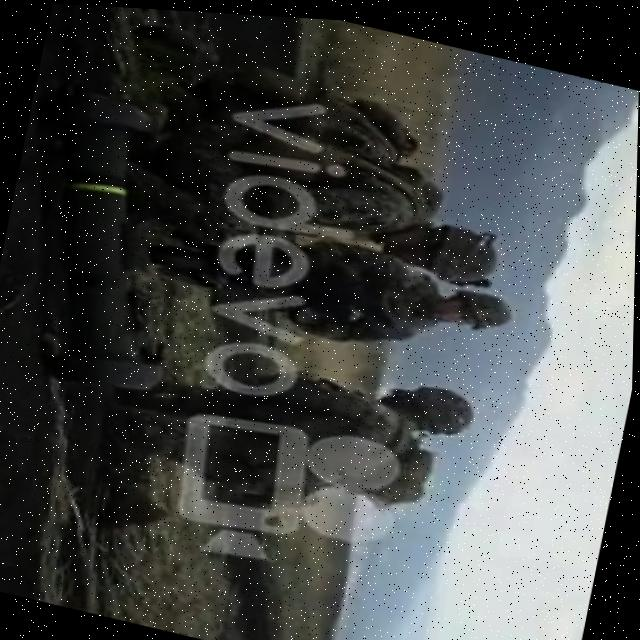rocket: (0, 75, 219, 404)
